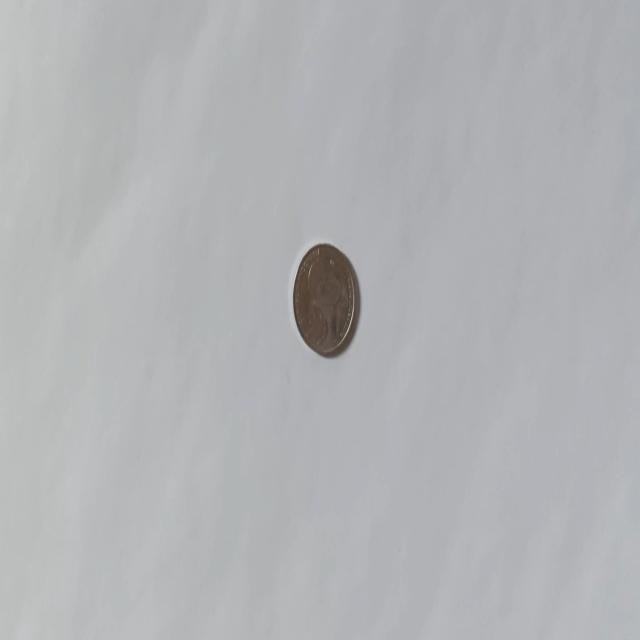seribu rupiah koin: (291, 240, 356, 358)
